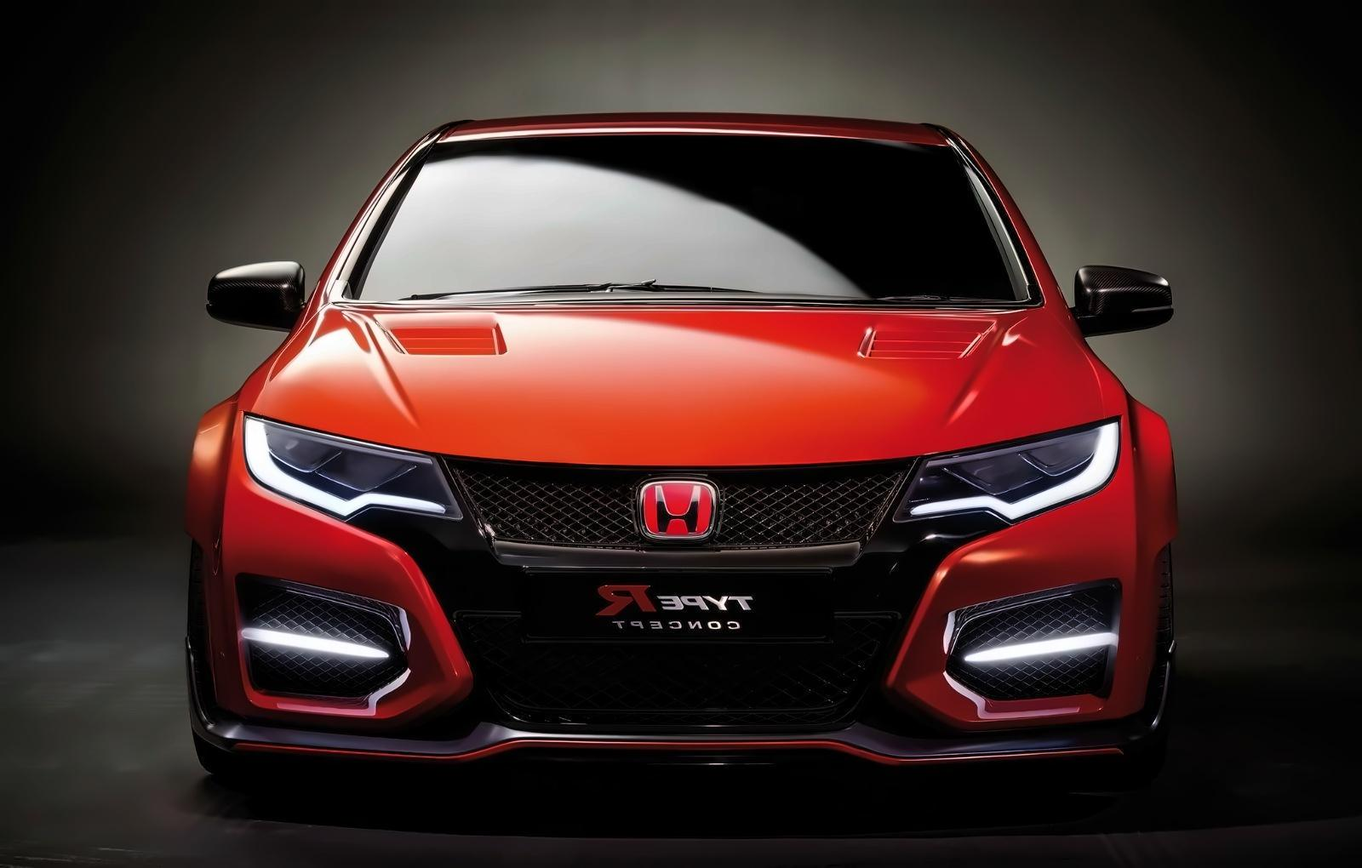Car hood: (247, 305, 1110, 469)
Front bumper: (185, 475, 1193, 783)
Headlight - -L-: (883, 416, 1124, 545)
Headlight - -R-: (241, 411, 465, 542)
Side mirror - -L-: (1060, 257, 1180, 342)
Side mirror - -R-: (195, 255, 316, 337)
